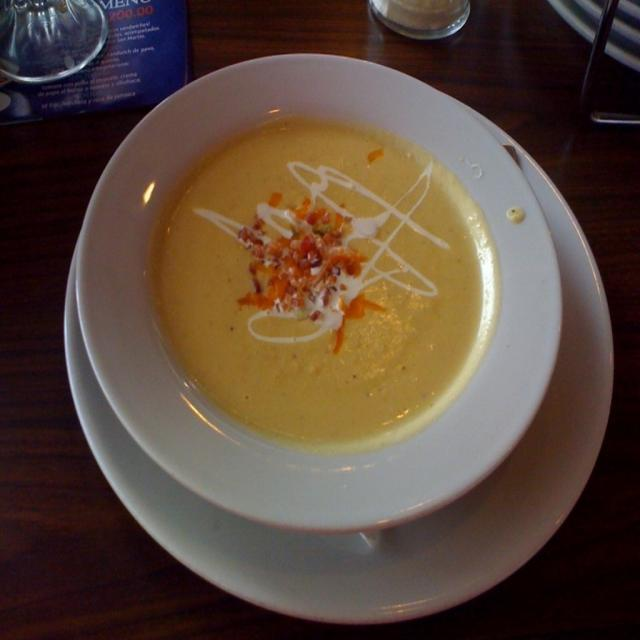ceramic plate: (62, 54, 640, 614)
